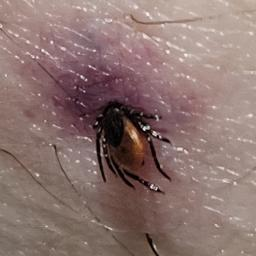Ixodes scapularis: (92, 101, 173, 195)
